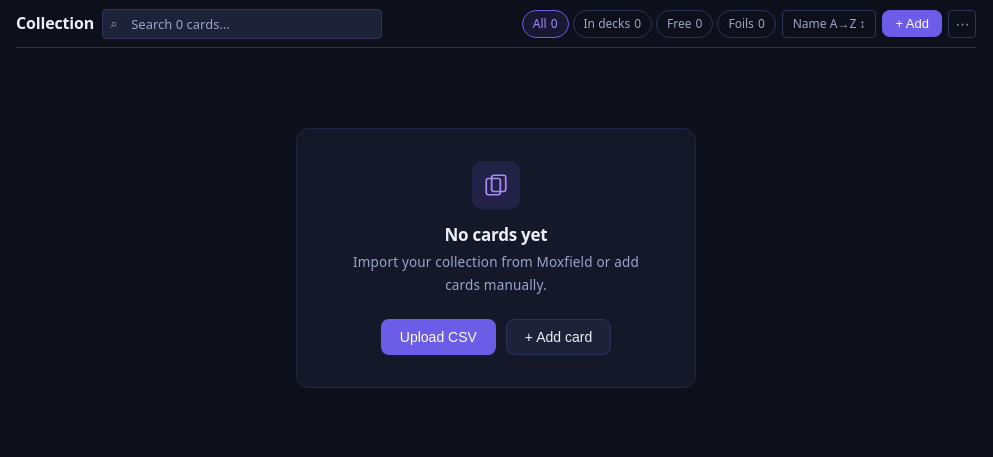
Test: CollectionPage — rendering › shows the empty state with no collection, and wires its actions
This screenshot has width=993, height=457.
Expected: the heading "No cards yet" is shown, top-left (444, 225), bottom-right (548, 245)
Click the button "Upload CSV".
click(438, 338)  # box top-left (381, 320), bottom-right (496, 356)
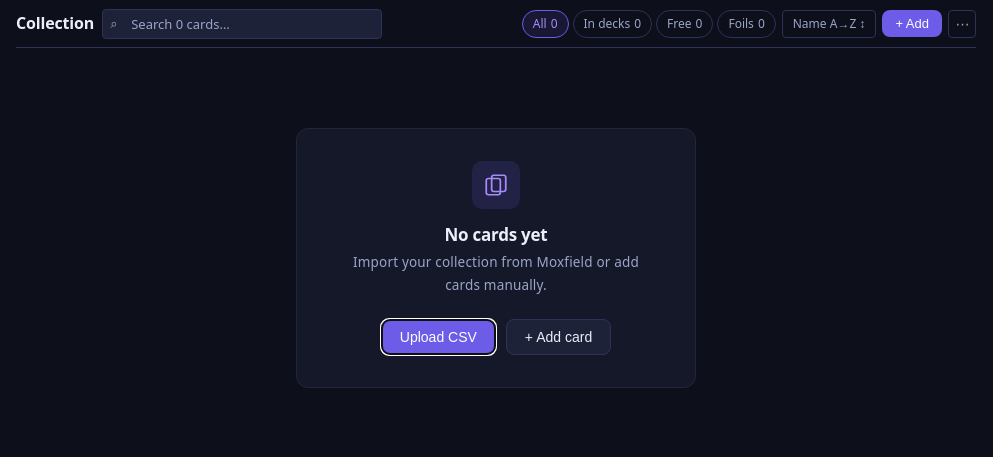
Click the button "+ Add card".
click(559, 338)  # box top-left (506, 320), bottom-right (611, 356)
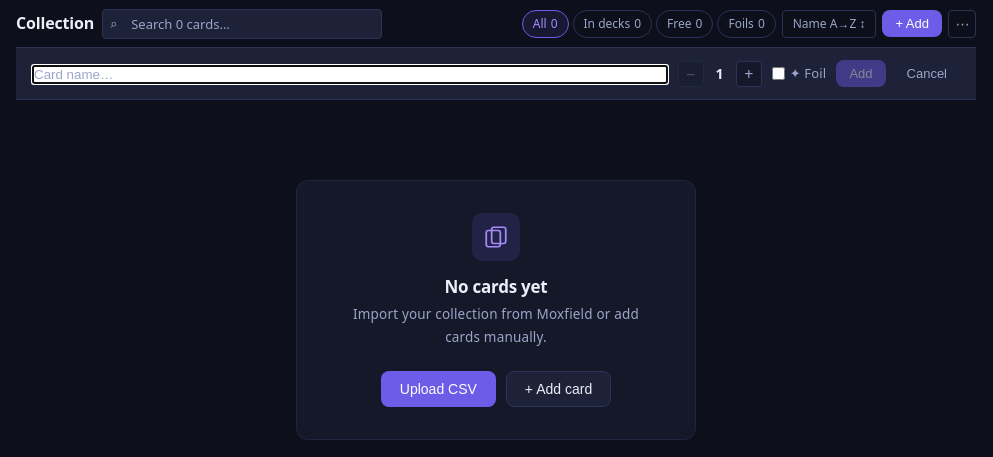
Now the field with placeholder "Card name…" is shown, box top-left (32, 65), bottom-right (668, 84)
